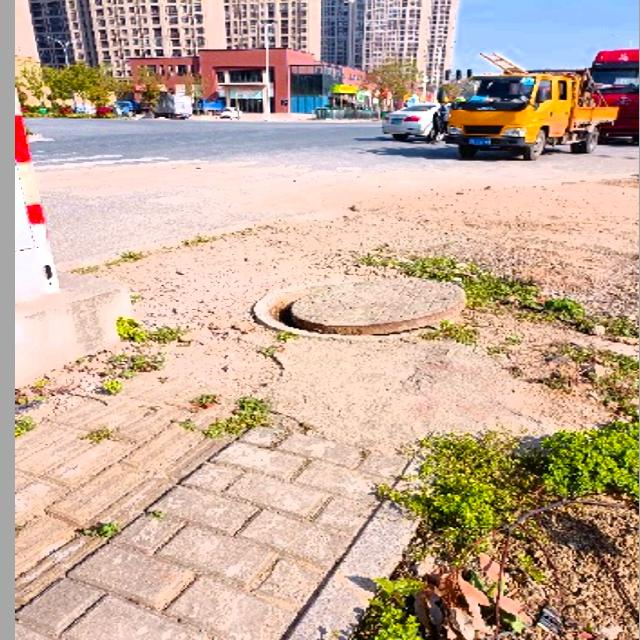uncovered: (252, 279, 469, 338)
